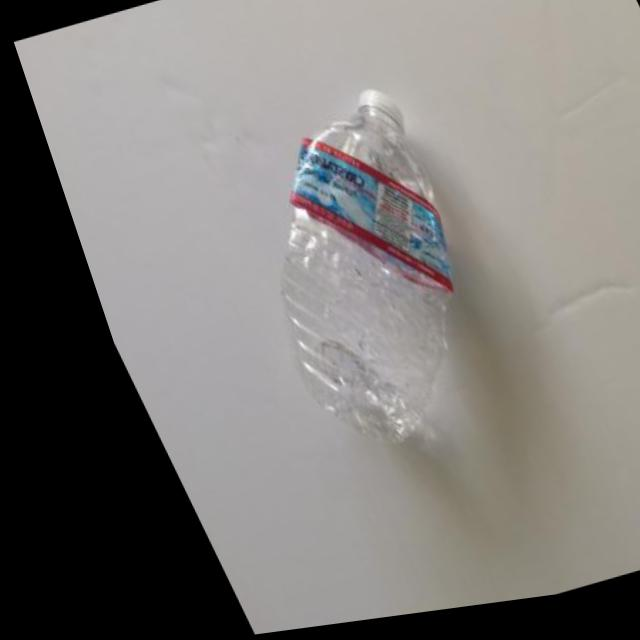plastic: (119, 44, 576, 506)
